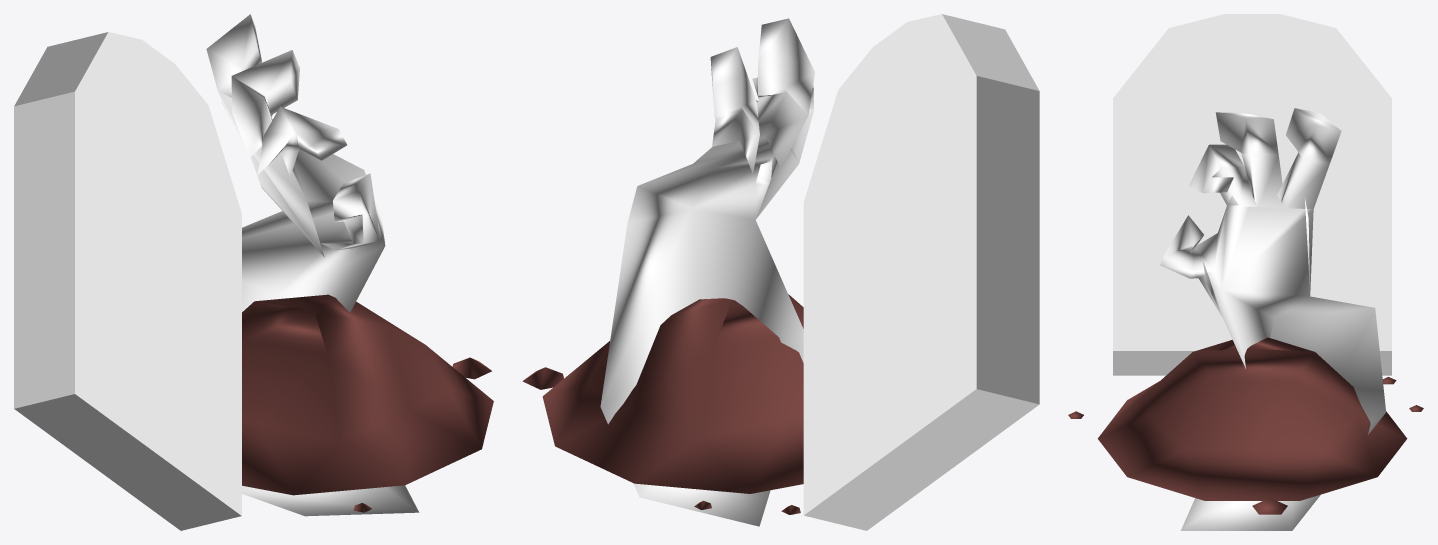
The model's file is spetral_hand.glb.
The picture shows the model from 3 angles, left to right: view 1: azimuth 30°, elevation 25°; view 2: azimuth 150°, elevation 25°; view 3: azimuth 270°, elevation 25°; orthographic projection. The views are drawn at different scales.
Visible parts, largest first — view 1: Cube001, Icosphere, Cube; view 2: Cube001, Cube, Icosphere; view 3: Cube001, Icosphere, Cube.
Boxes of the visible parts, left/top/right/bottom form: Cube001: left=14, top=32, right=241, bottom=530; Icosphere: left=242, top=294, right=493, bottom=512; Cube: left=206, top=14, right=419, bottom=516; Cube001: left=803, top=14, right=1039, bottom=530; Cube: left=600, top=18, right=814, bottom=526; Icosphere: left=522, top=294, right=803, bottom=514; Cube001: left=1113, top=14, right=1391, bottom=375; Icosphere: left=1068, top=337, right=1423, bottom=514; Cube: left=1160, top=108, right=1385, bottom=530.
Bounding box in the file's own units: 2.48 × 2.89 × 2.3.
